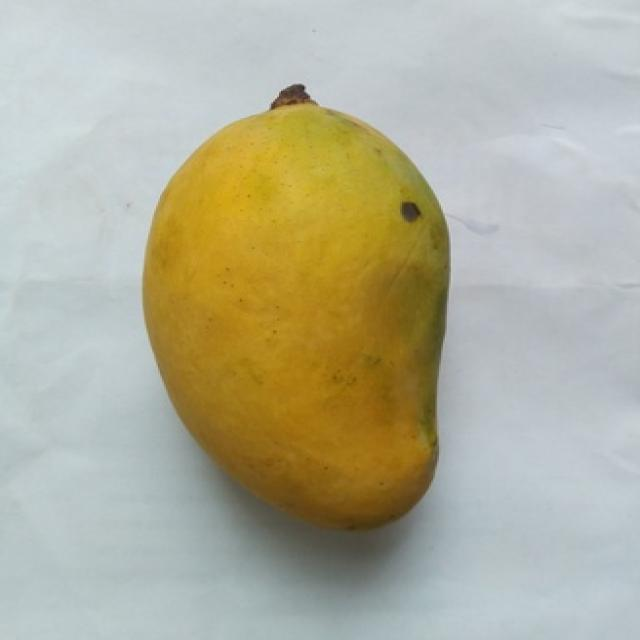Mango: (144, 86, 449, 528)
